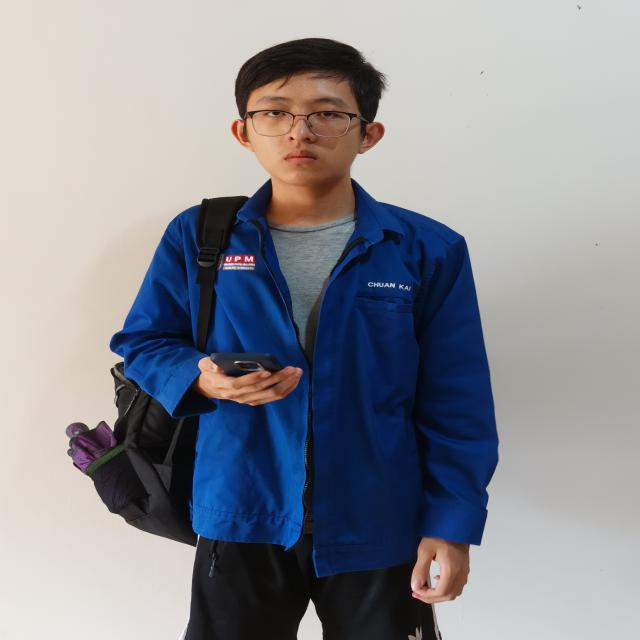person_with_labcoat: (67, 38, 498, 640)
